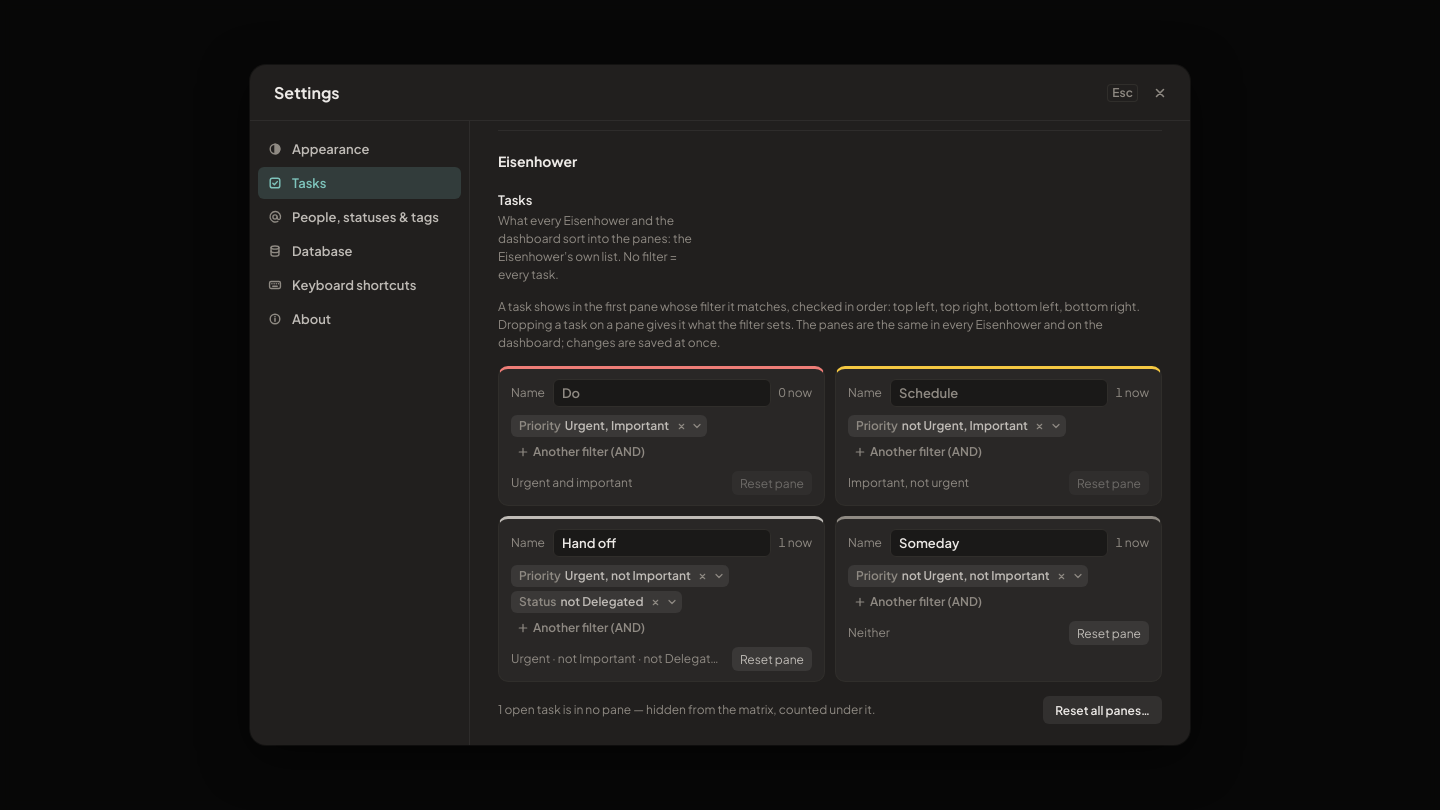
Test: Settings › Tasks › Eisenhower › Reset pane and Reset all panes (asked first) put the defaults back (the name field too), one undo step each, with the snackbar
(page scrolled)
Click the button "Reset pane" next to "Urgent · not Important · not Delegated": (772, 659) x1=732 y1=647 x2=812 y2=671
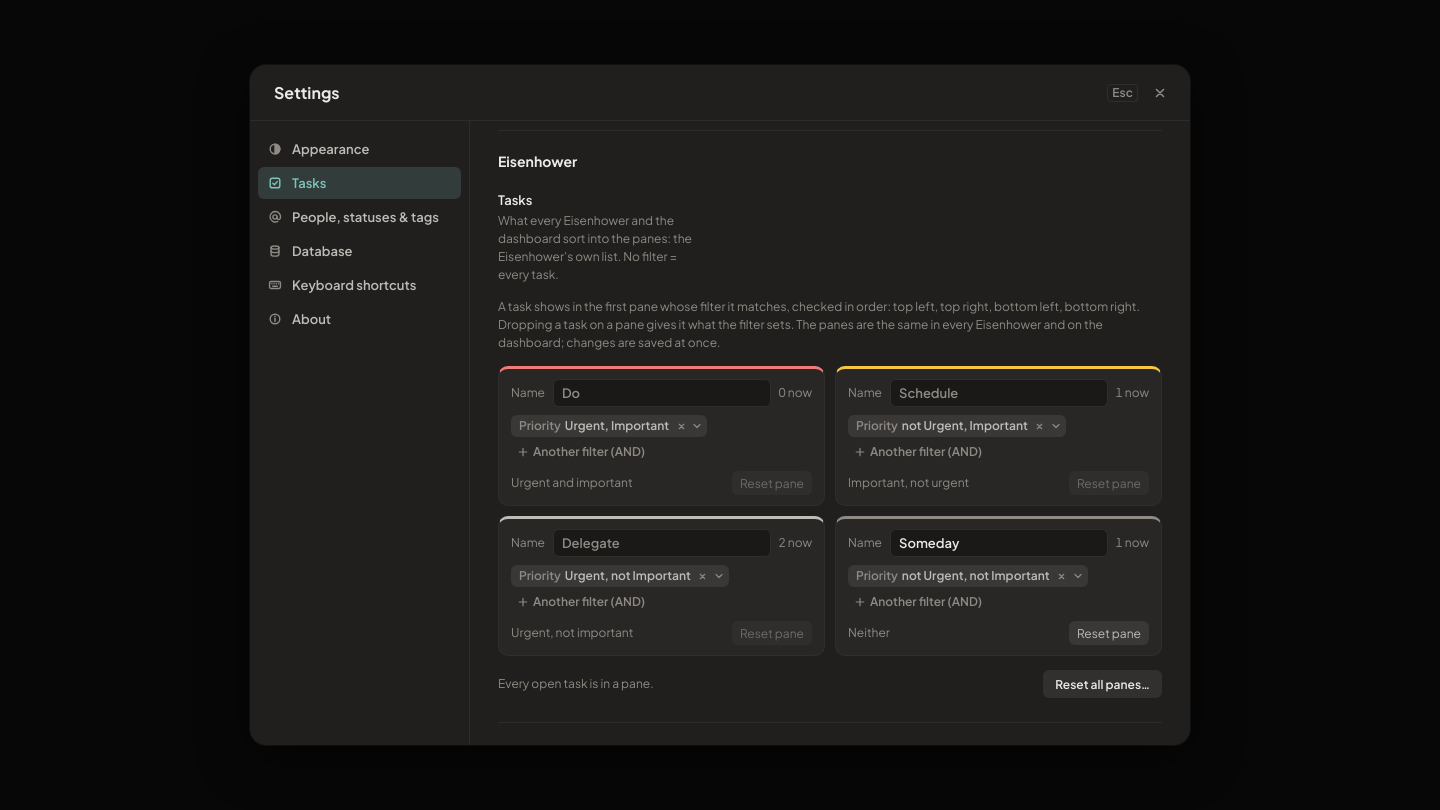
Result: the 3rd field labelled "Name" is empty at x1=553 y1=529 x2=771 y2=557
Click the button "Reset all panes…": (1103, 684) x1=1043 y1=670 x2=1162 y2=698
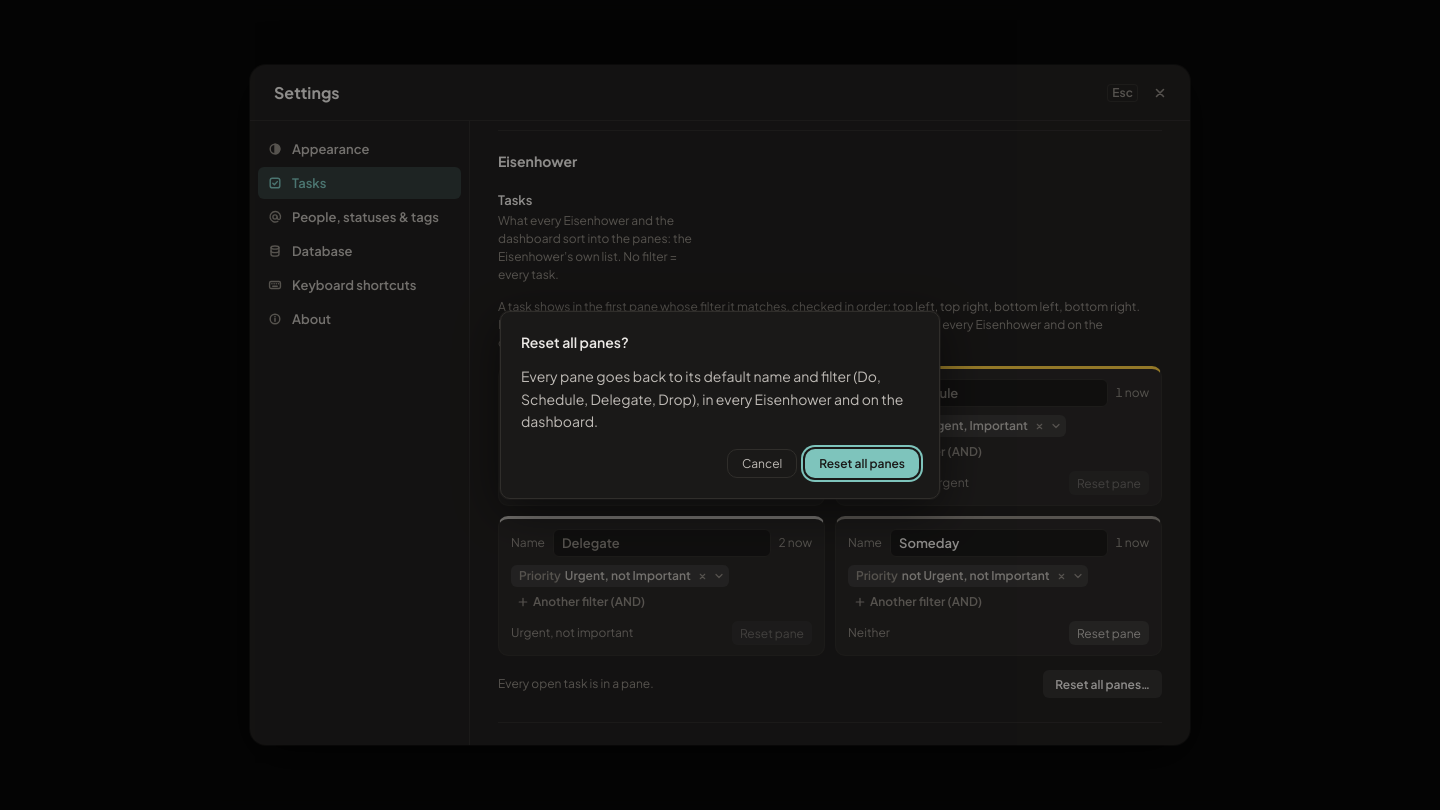
Press Escape in the dialog "Reset all panes?", box x1=500 y1=311 x2=940 y2=499
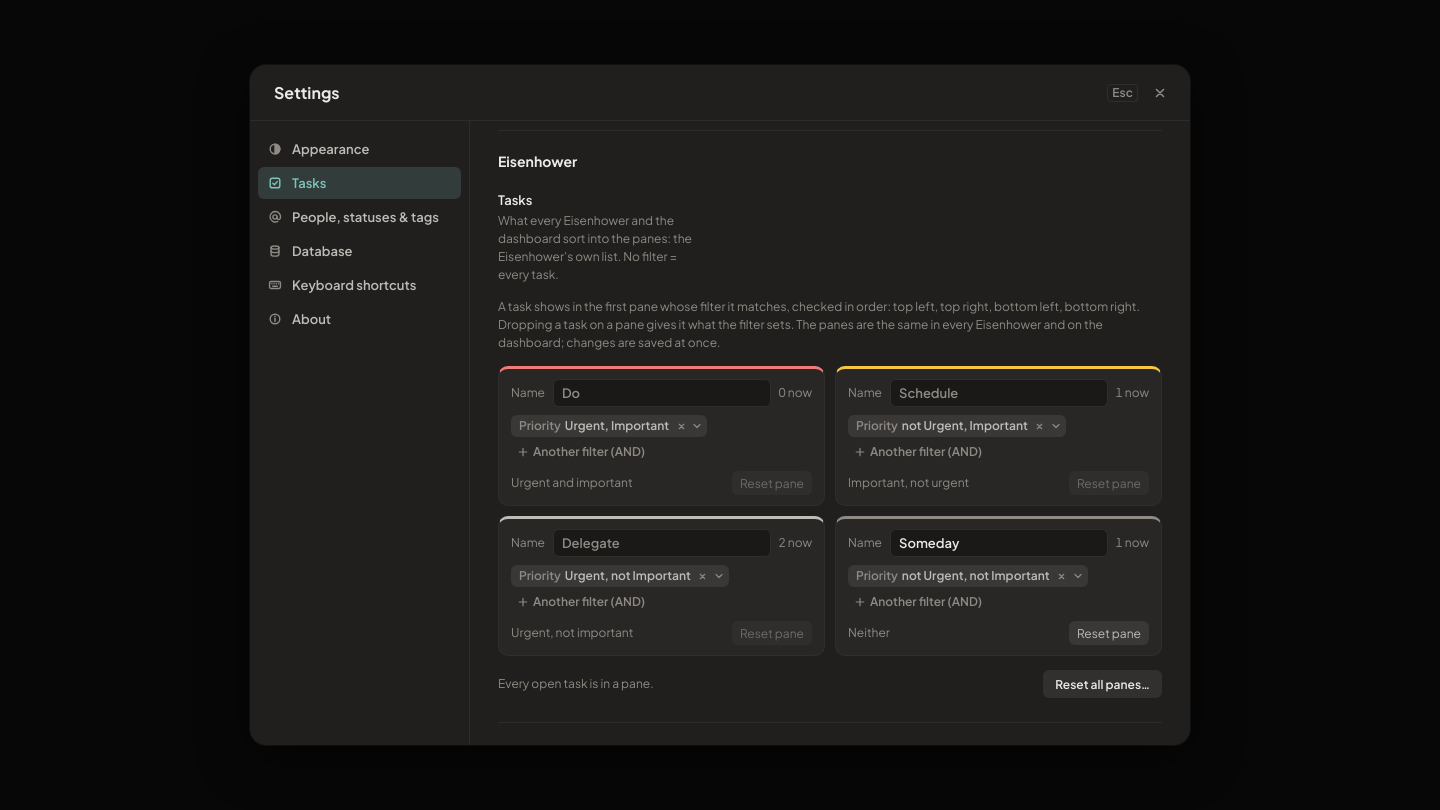
Expected: the dialog "Reset all panes?" is not shown
Click the button "Reset all panes…": (1103, 684) x1=1043 y1=670 x2=1162 y2=698
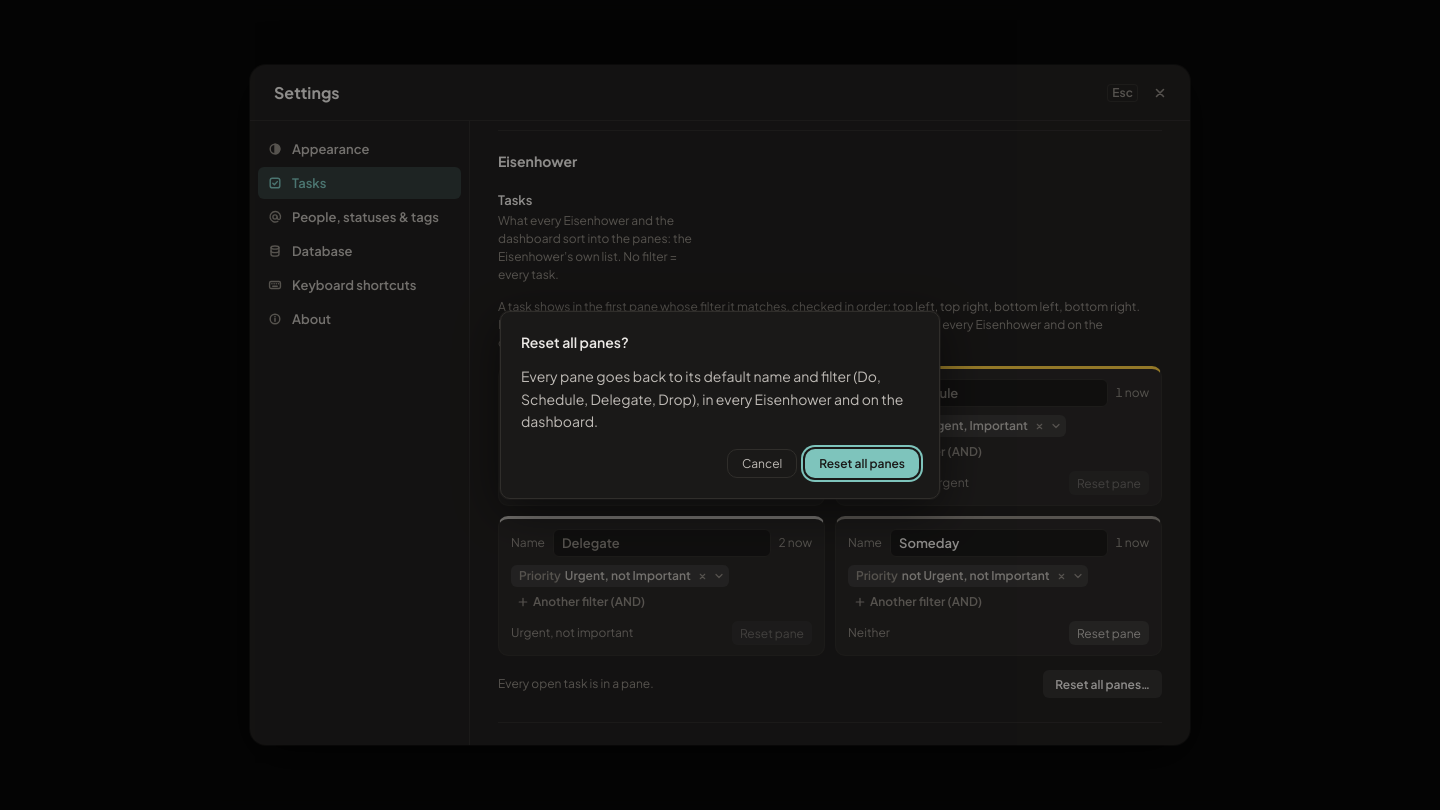
Click the button "Reset all panes": (862, 463) x1=805 y1=449 x2=919 y2=478
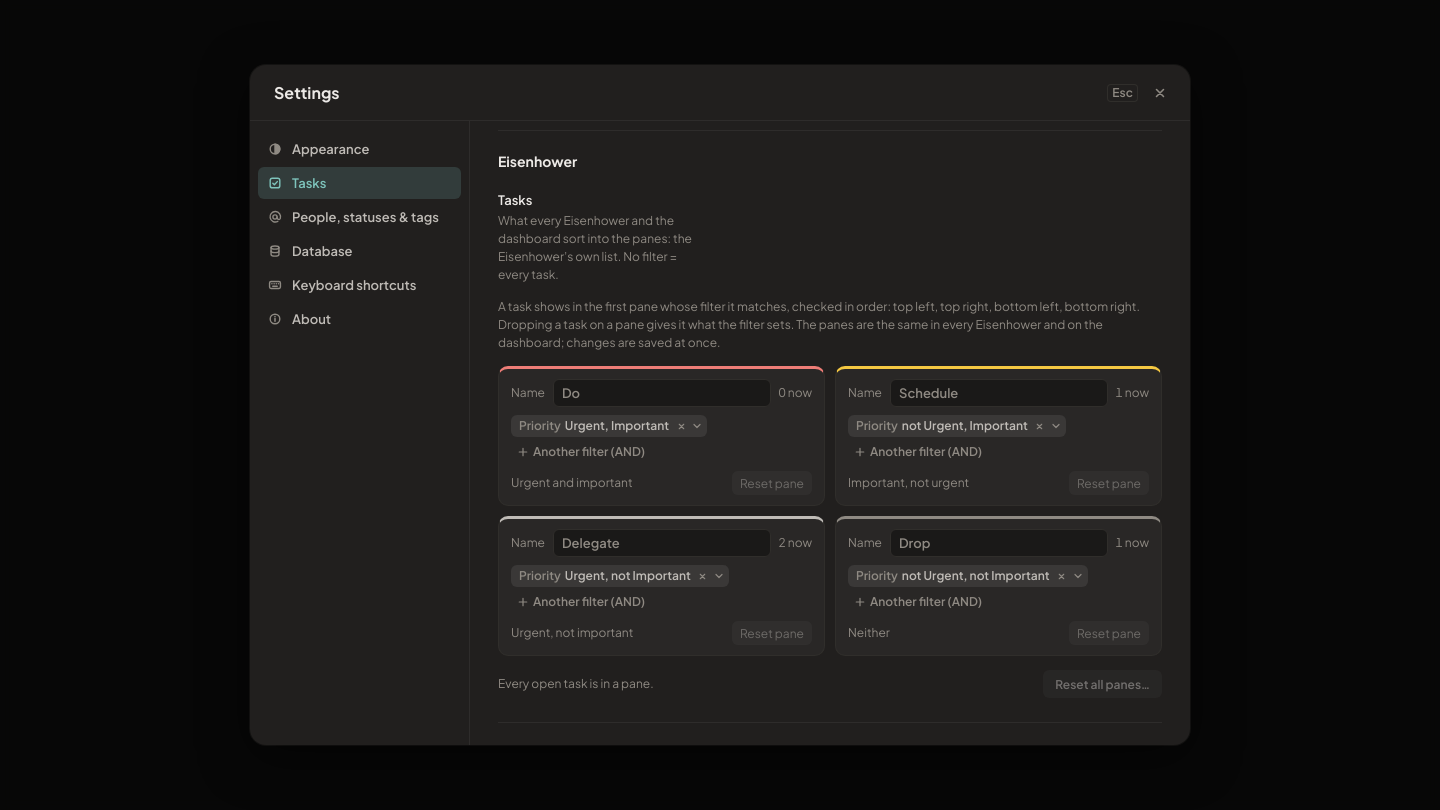
Result: the button "Reset all panes…" is disabled at x1=1043 y1=670 x2=1162 y2=698
